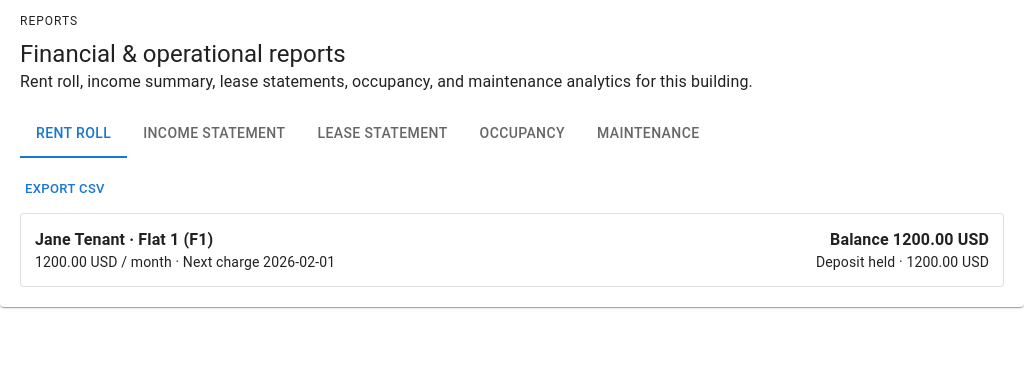
it: switches to the income statement tab and shows totals
Click the tab "Income statement": (214, 134) [127,110,302,158]
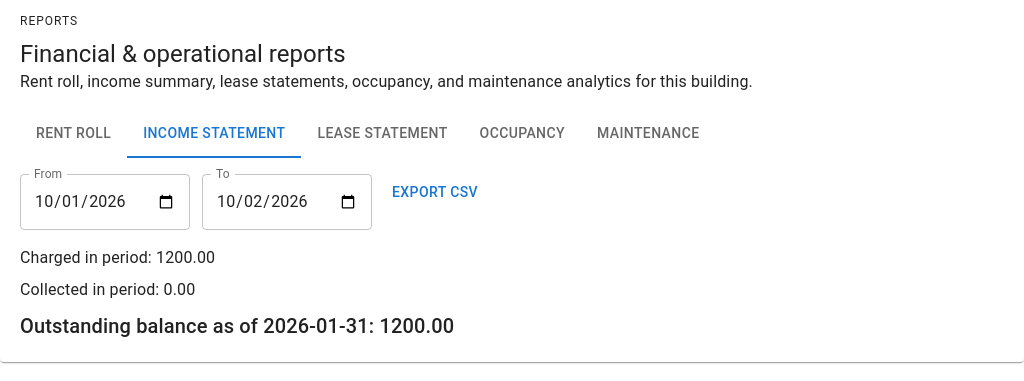
Check: the heading "Outstanding balance as of 2026-01-31: 1200.00" is shown, box [20,314,454,338]
